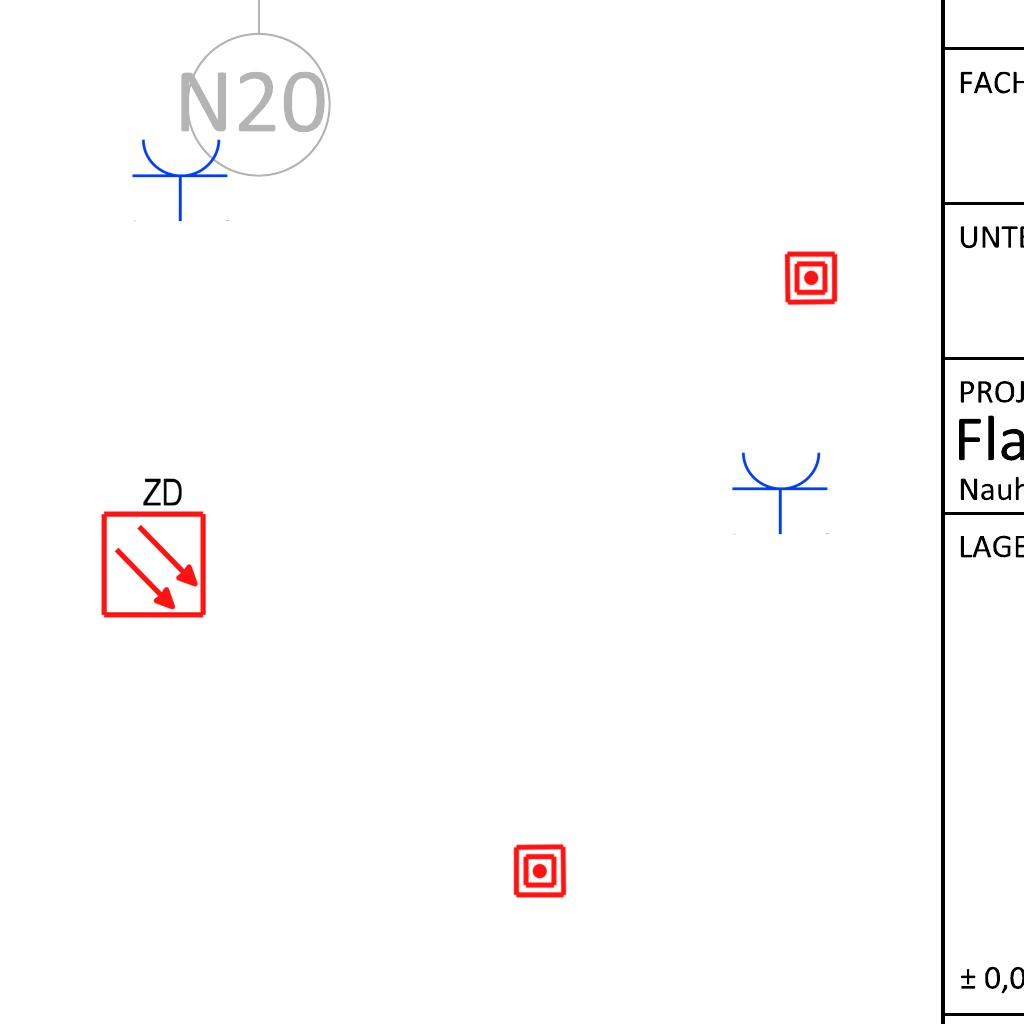NAM-Nichtautomatischer_Melder: (512, 843, 568, 899), (783, 250, 839, 306)
Schukosteckdose_einfach: (131, 135, 231, 222), (731, 448, 831, 535)
ZD_Melder_in_Zwischendecke_mit_Revisionsoeffnung_mind_40_x_40_cm: (95, 471, 209, 620)
